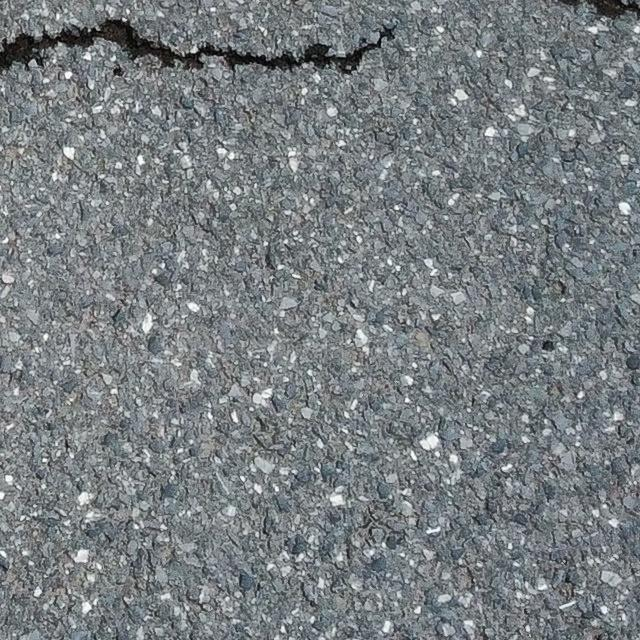TransverseCrack: (1, 23, 399, 74), (558, 1, 640, 21)
